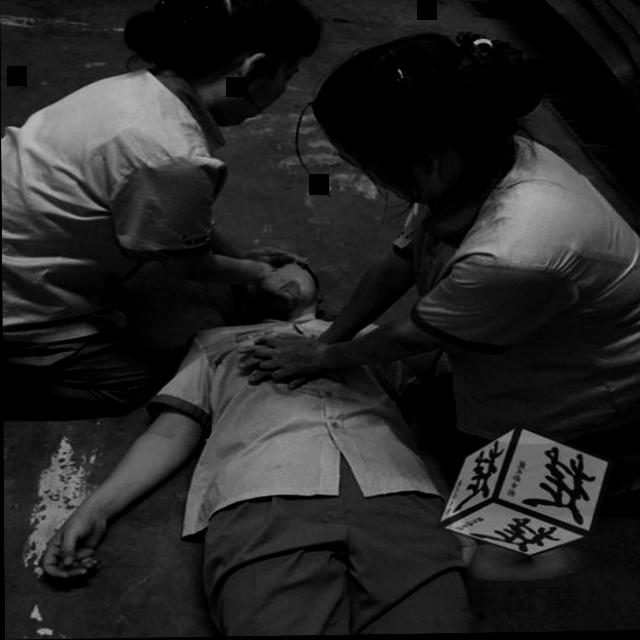Fall-Detected: (30, 233, 484, 640)
